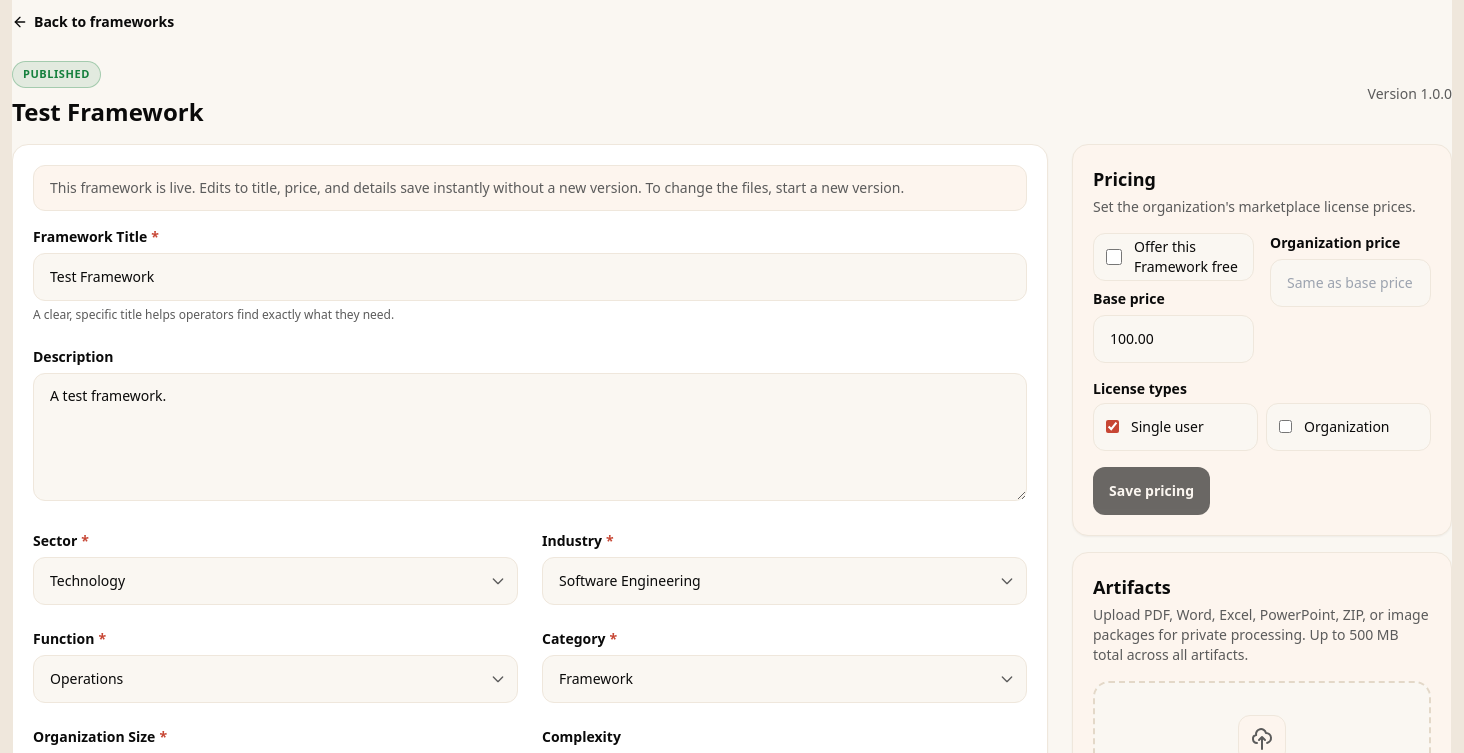
it: FrameworkEditor › shows organization pricing to admins and surfaces adapter failures
Expected: the heading "Test Framework" is shown, [12, 96, 204, 128]
Replace the text in the field labelled "Base price" with "550.00": [1174, 338] box [1093, 314, 1254, 362]
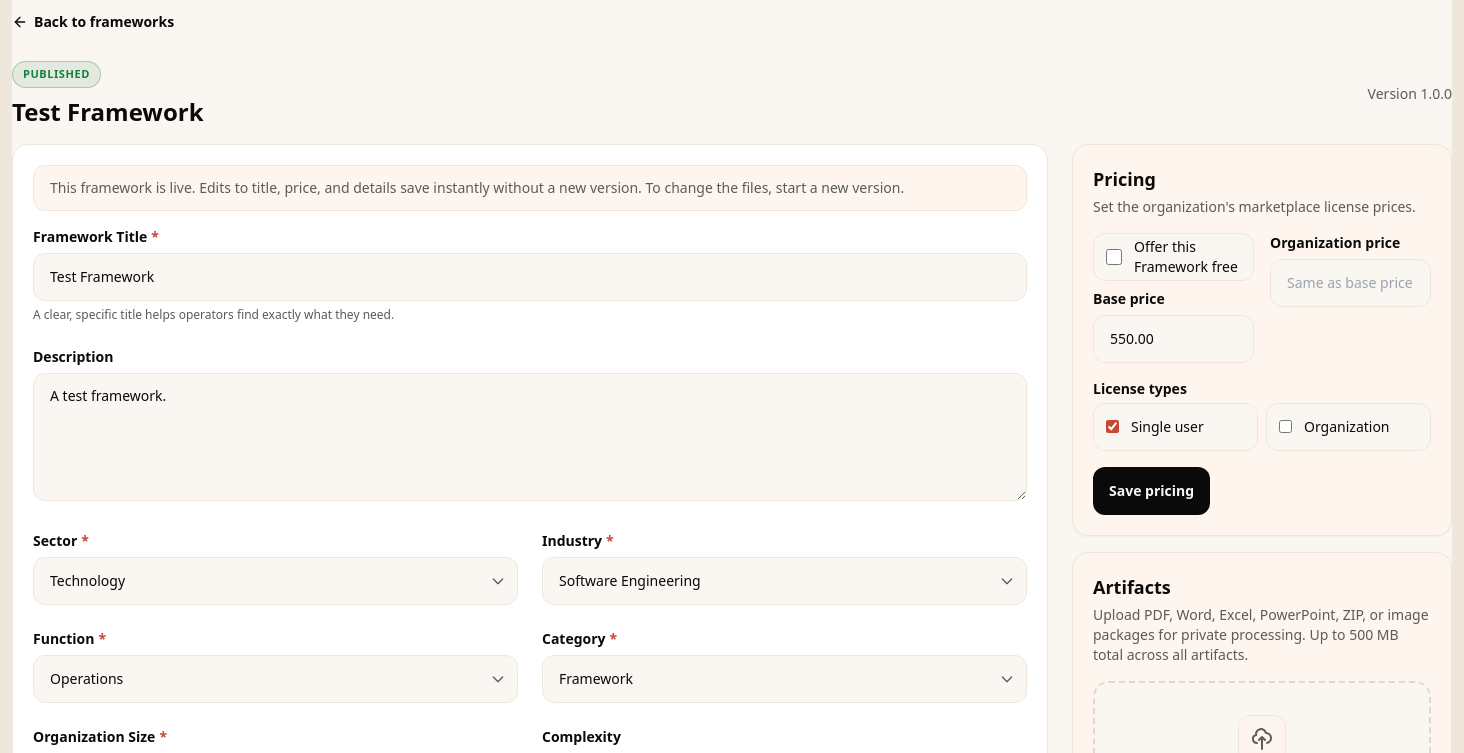
Click the button "Save pricing": [1152, 490] box [1093, 466, 1210, 514]
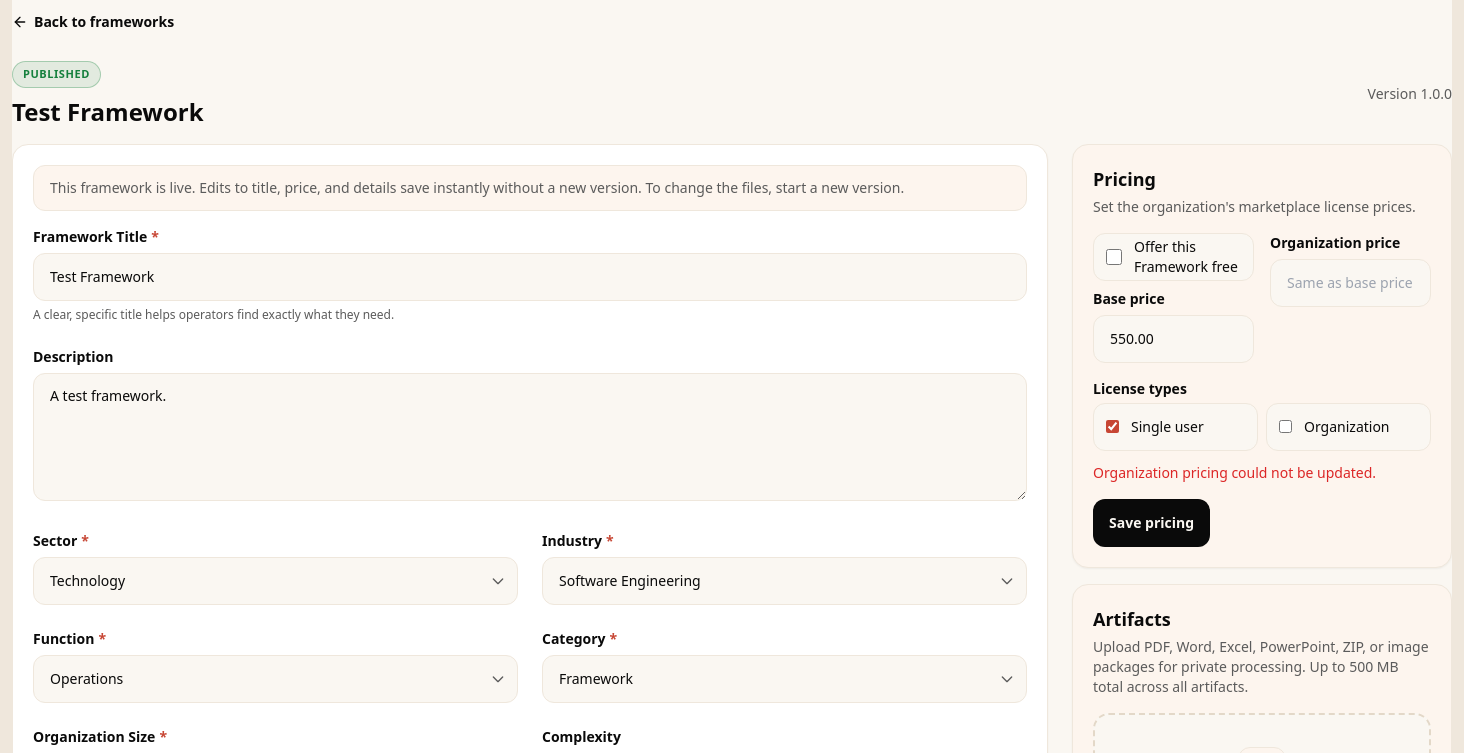
Expected: the text "Organization pricing could not be updated." is shown, [1093, 462, 1376, 482]
